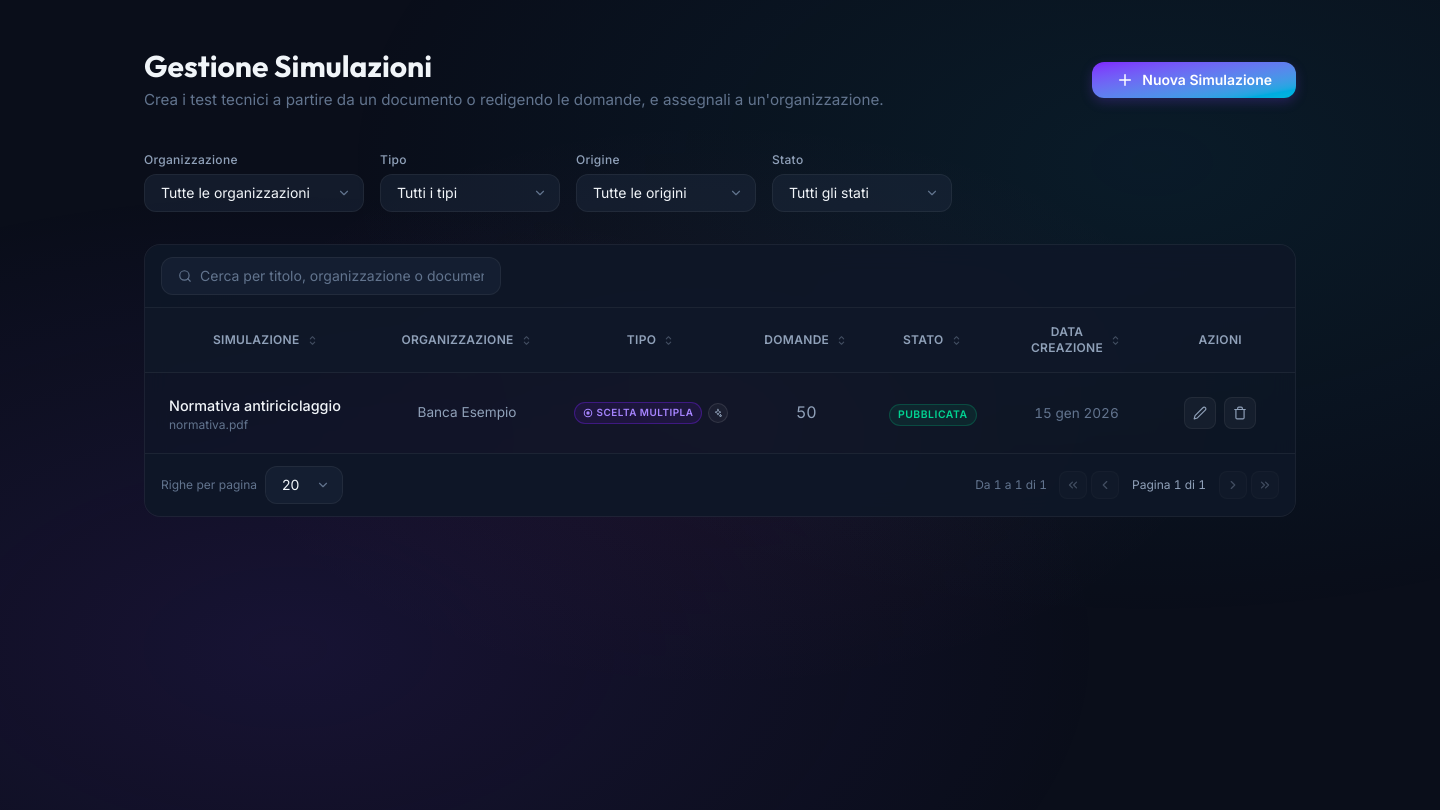
Test: eliminazione › dice cosa sparisce e indica la strada che conserva i risultati
Click the button named "Elimina Normativa antiriciclaggio". click: {"x": 1240, "y": 413}
box: [1224,397,1256,429]
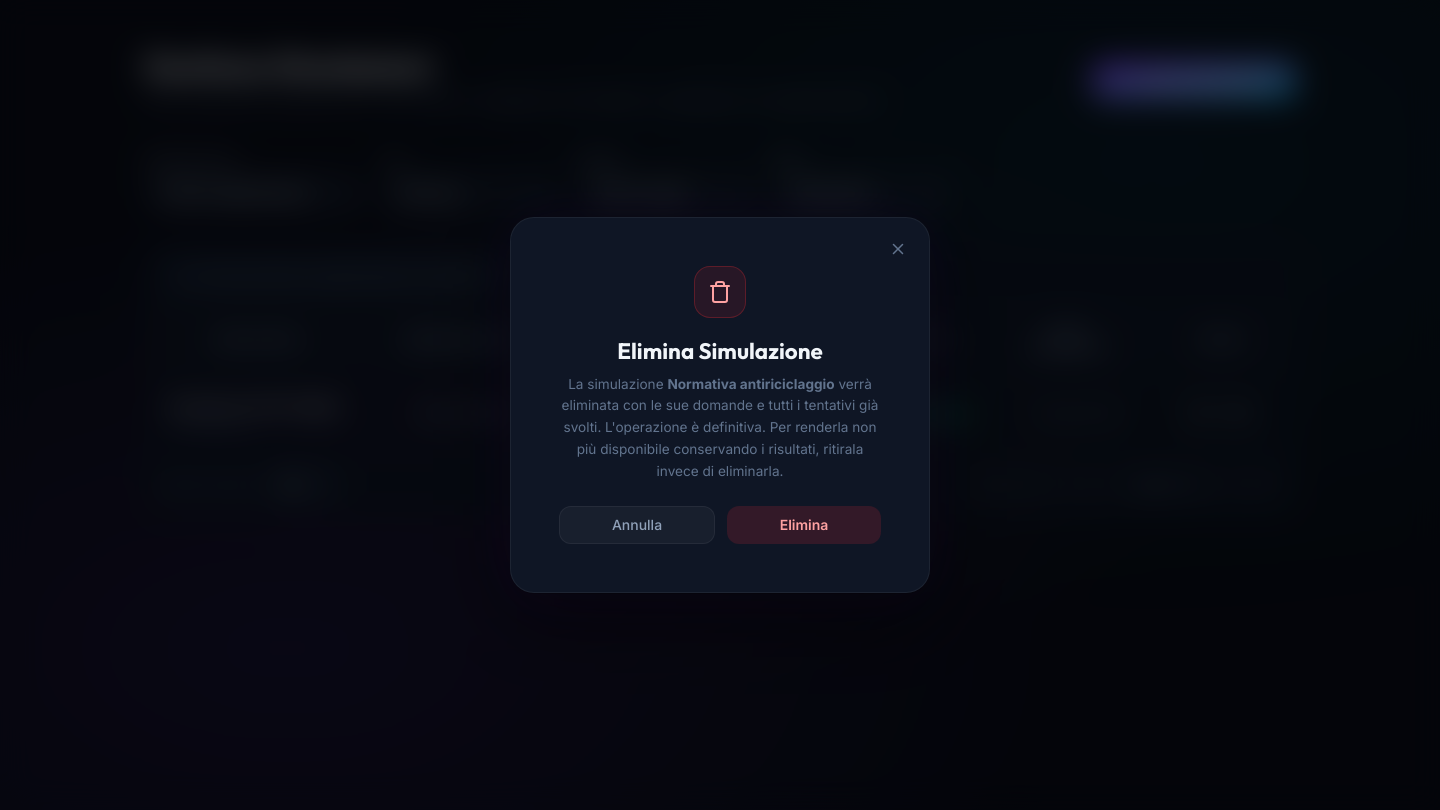
Result: the text "ritirala invece di eliminarla" is shown at [562,376,878,478]
